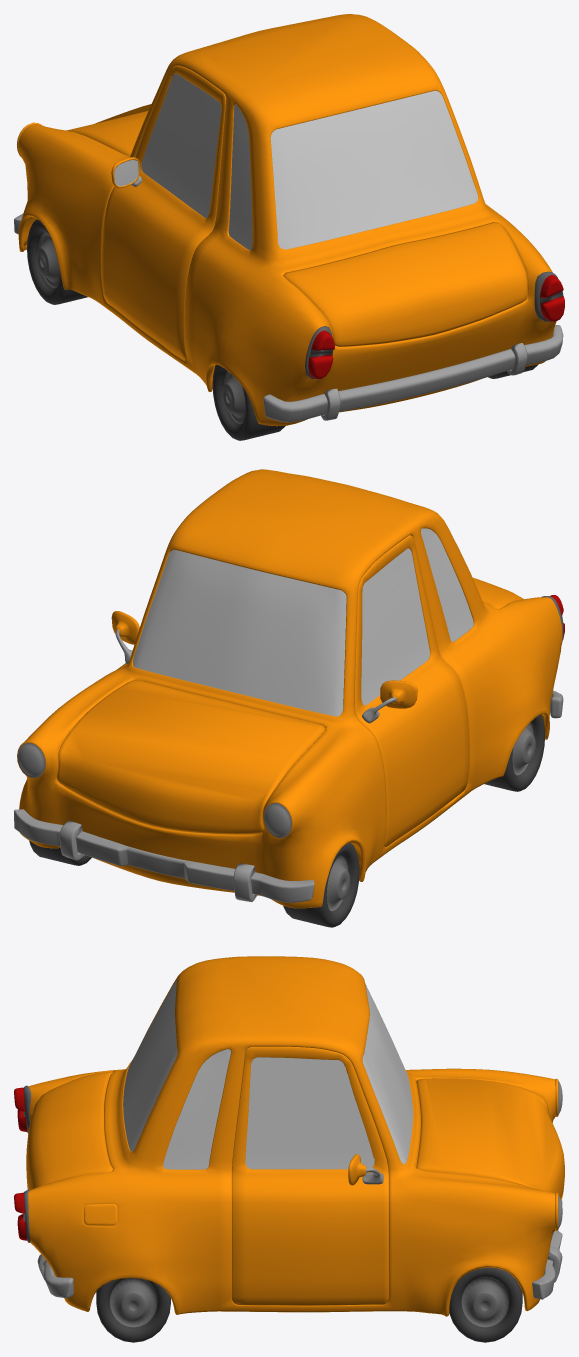
The model's file is car_03.fbx.
3 views of the same model, one above another, from view 1: azimuth 30°, elevation 25°; view 2: azimuth 150°, elevation 25°; view 3: azimuth 270°, elevation 25° (orthographic). The views are drawn at different scales.
Visible parts, largest first — view 1: Car_Cartoon6_00002, wheel_rear_left, wheel_front_left; view 2: Car_Cartoon6_00002, wheel_front_left, wheel_rear_left; view 3: Car_Cartoon6_00002, wheel_front_right, wheel_rear_right.
Part boxes in pixels (x1,y1,x2,y2): Car_Cartoon6_00002: [14, 14, 564, 426]; wheel_rear_left: [212, 364, 285, 440]; wheel_front_left: [27, 219, 87, 304]; Car_Cartoon6_00002: [14, 469, 564, 908]; wheel_front_left: [283, 843, 359, 927]; wheel_rear_left: [484, 714, 545, 791]; Car_Cartoon6_00002: [14, 956, 564, 1316]; wheel_front_right: [449, 1267, 522, 1342]; wheel_rear_right: [96, 1278, 170, 1342].
Size of the model in its own units: 253 by 232 by 409.
Materials: 1 (1 with a texture image).
